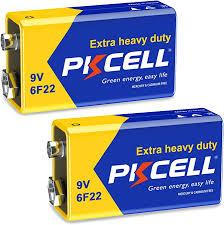9V Battery: (0, 0, 178, 115), (48, 108, 224, 223)
